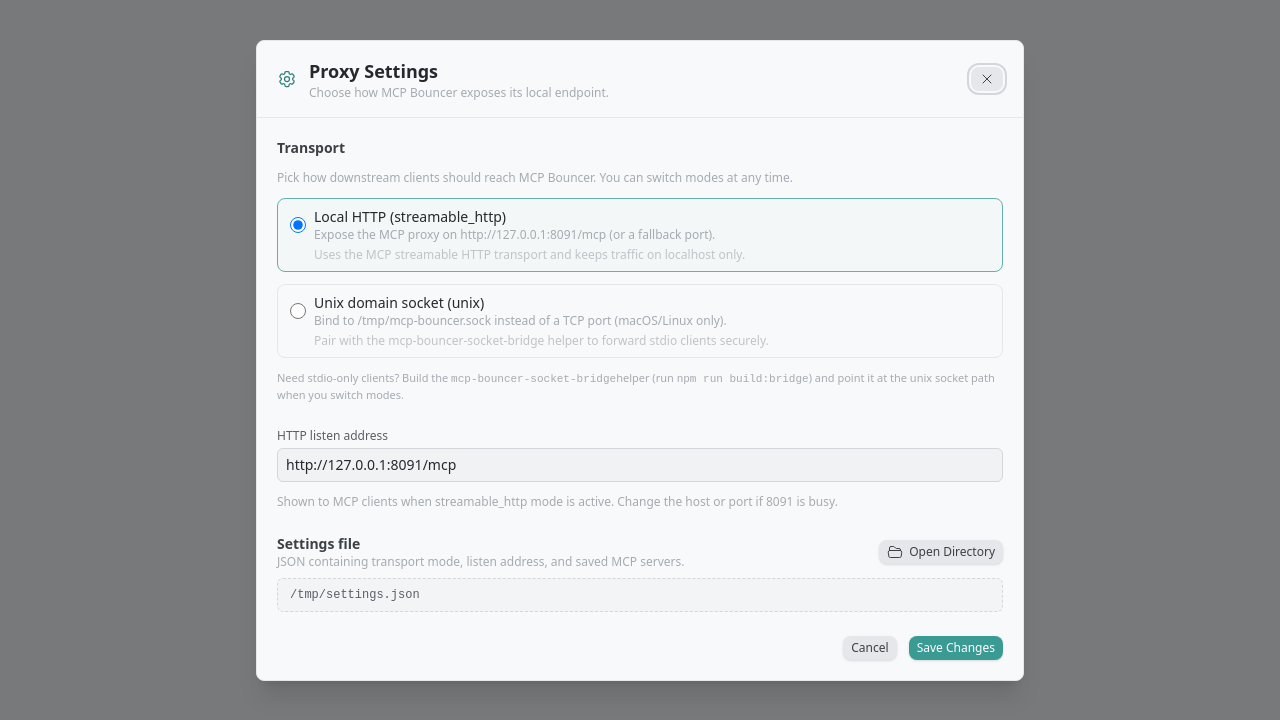
Test: SettingsModal › does not show success toast when save fails
What coordinates should you click on to do the following:
click the button "Save Changes"
I would click on:
 (956, 648)
Its box is [909,636,1003,660].
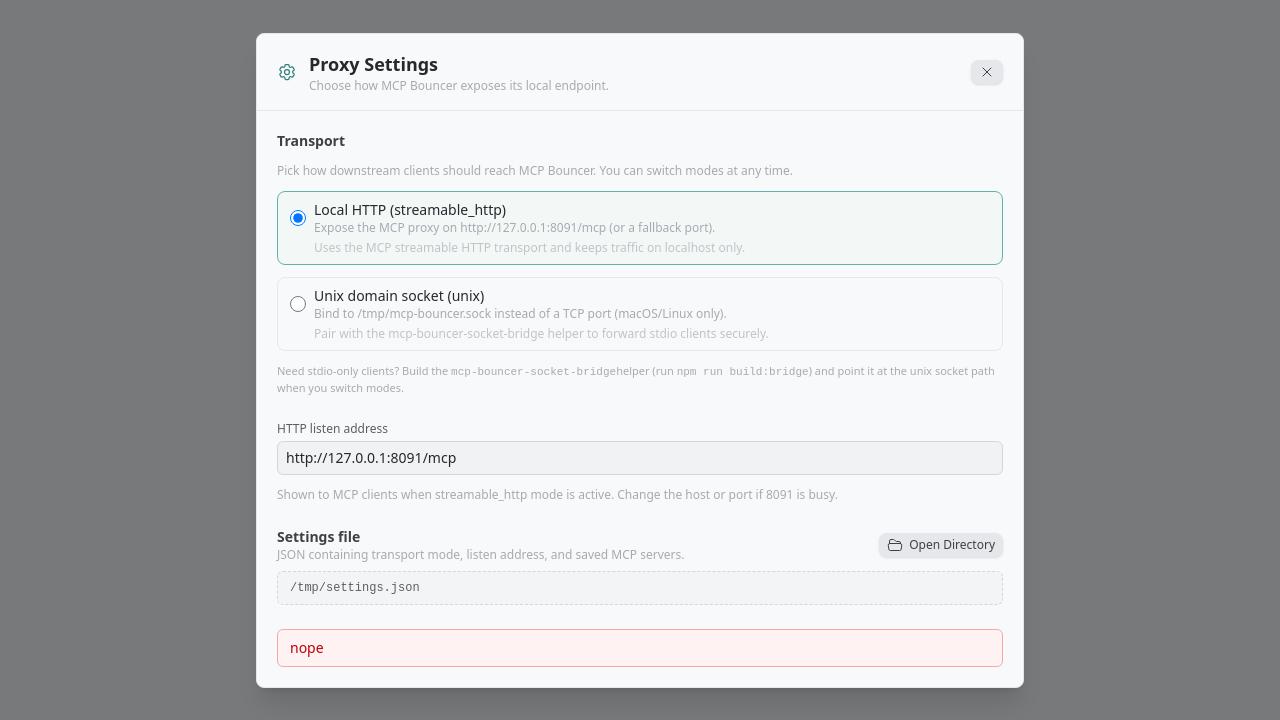
Expected: the text "nope" is shown, [277,628,1003,666]
